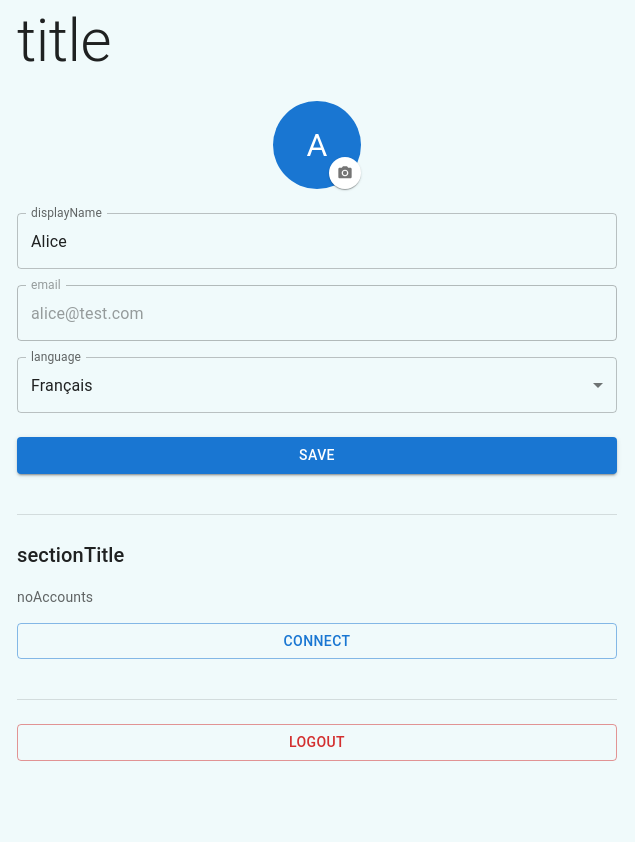
Test: ProfileContent › shows success message after save
Click the button "save" at (317, 455), box left=17, top=437, right=617, bottom=474
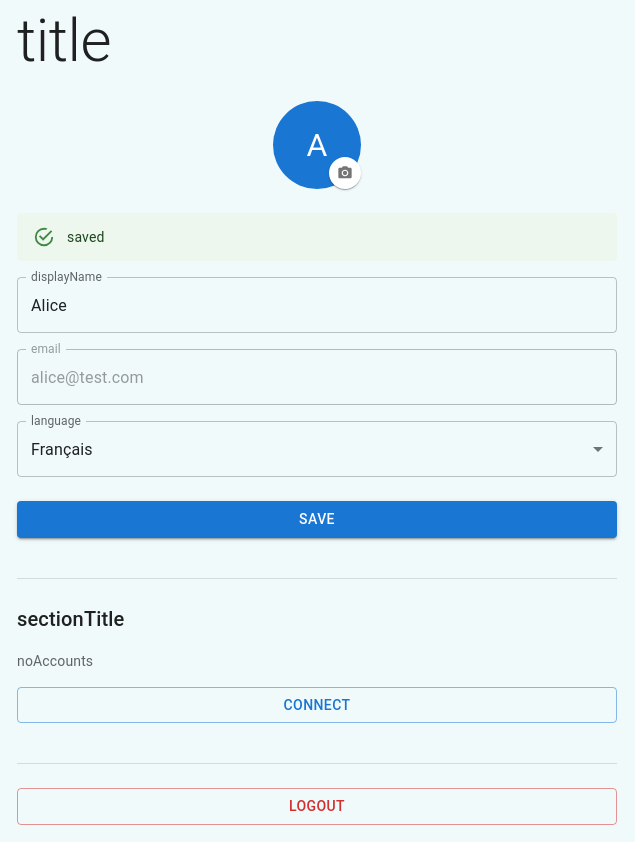
Expected: the text "saved" is shown, left=67, top=229, right=104, bottom=245
